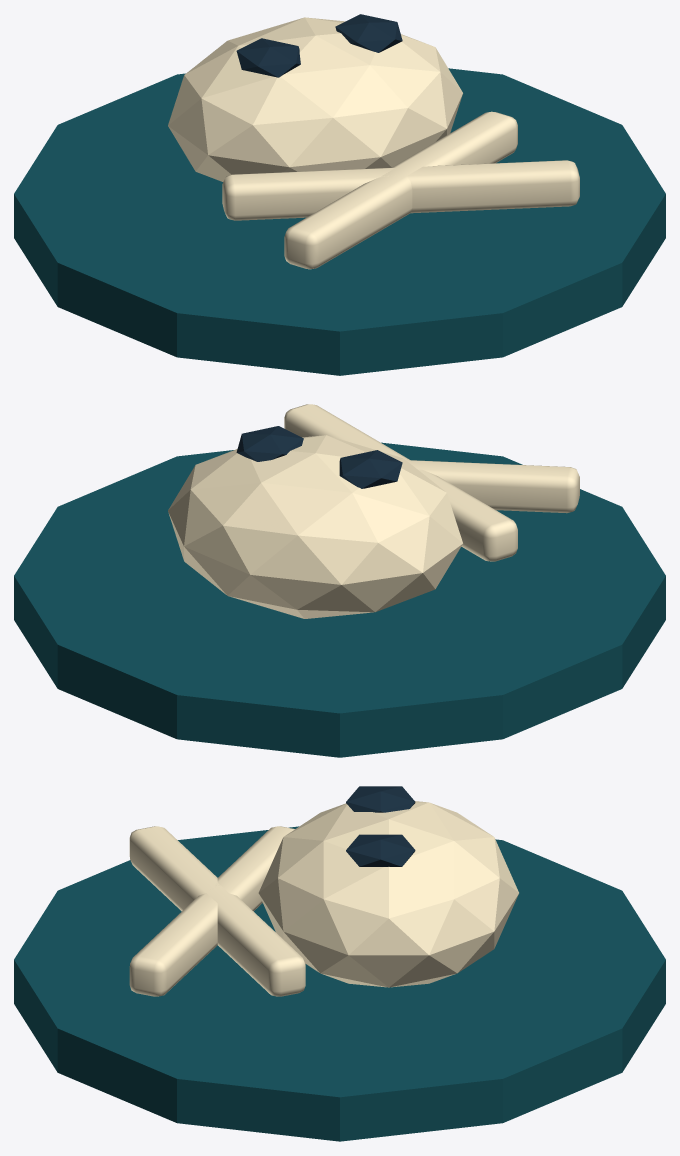
The model's file is Icon_Pirates.fbx.
3 renders of one model, top to bottom at view 1: azimuth 30°, elevation 25°; view 2: azimuth 150°, elevation 25°; view 3: azimuth 270°, elevation 25°, orthographic.
Parts seen in each view (by area): view 1: Icon_Pirates_Static; view 2: Icon_Pirates_Static; view 3: Icon_Pirates_Static.
Boxes of the visible parts, <box> form: Icon_Pirates_Static: <box>14,14,665,375</box>; Icon_Pirates_Static: <box>14,404,665,757</box>; Icon_Pirates_Static: <box>14,786,665,1141</box>.
Size of the model in its own units: 1.6 by 0.51 by 1.6.
Materials: 1 (1 with a texture image).
